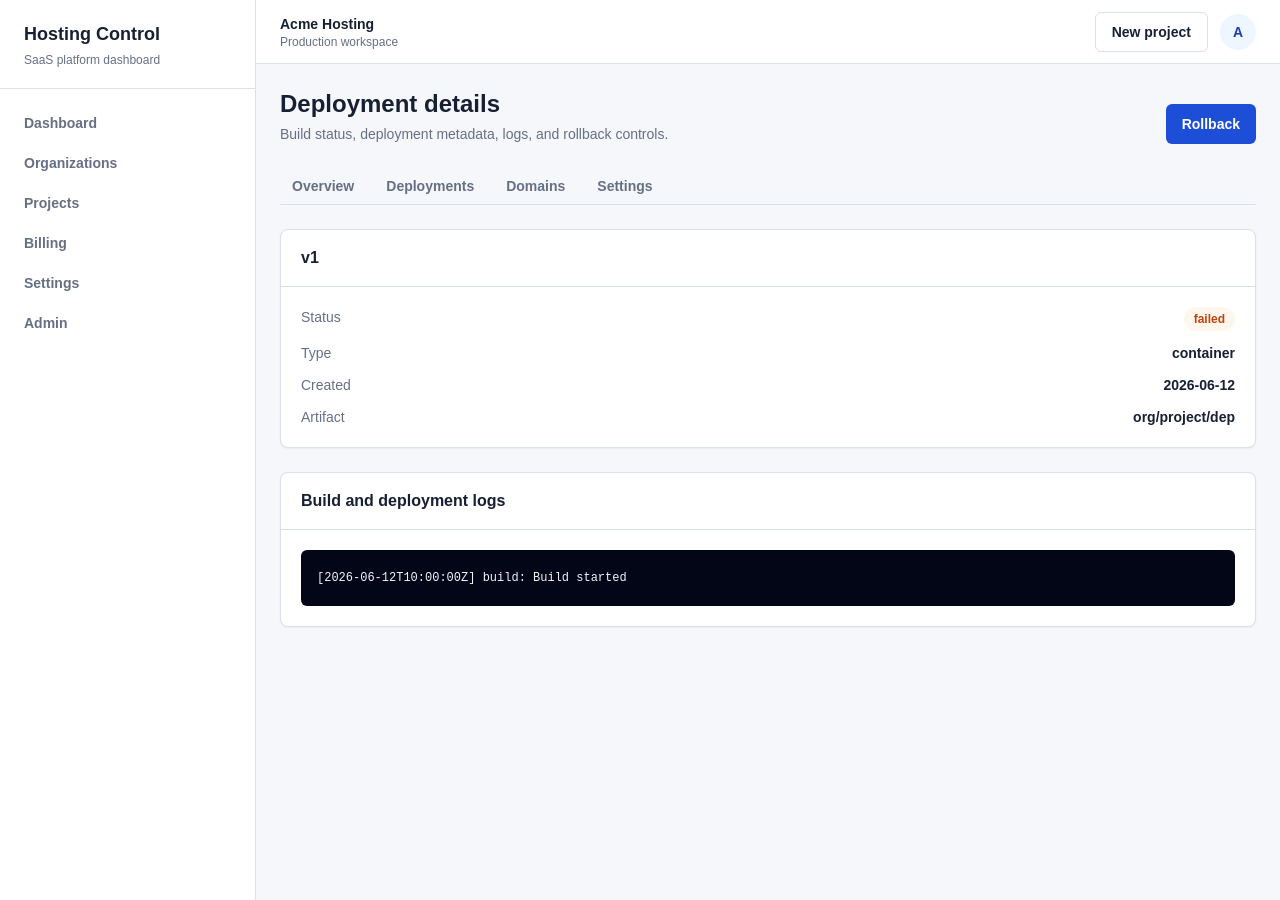
Test case: DeploymentDetailPage › allows rollback for deploy-capable roles
The image size is (1280, 900).
Click the button "Rollback".
click(1211, 124)  # box 1166,104 -> 1256,144
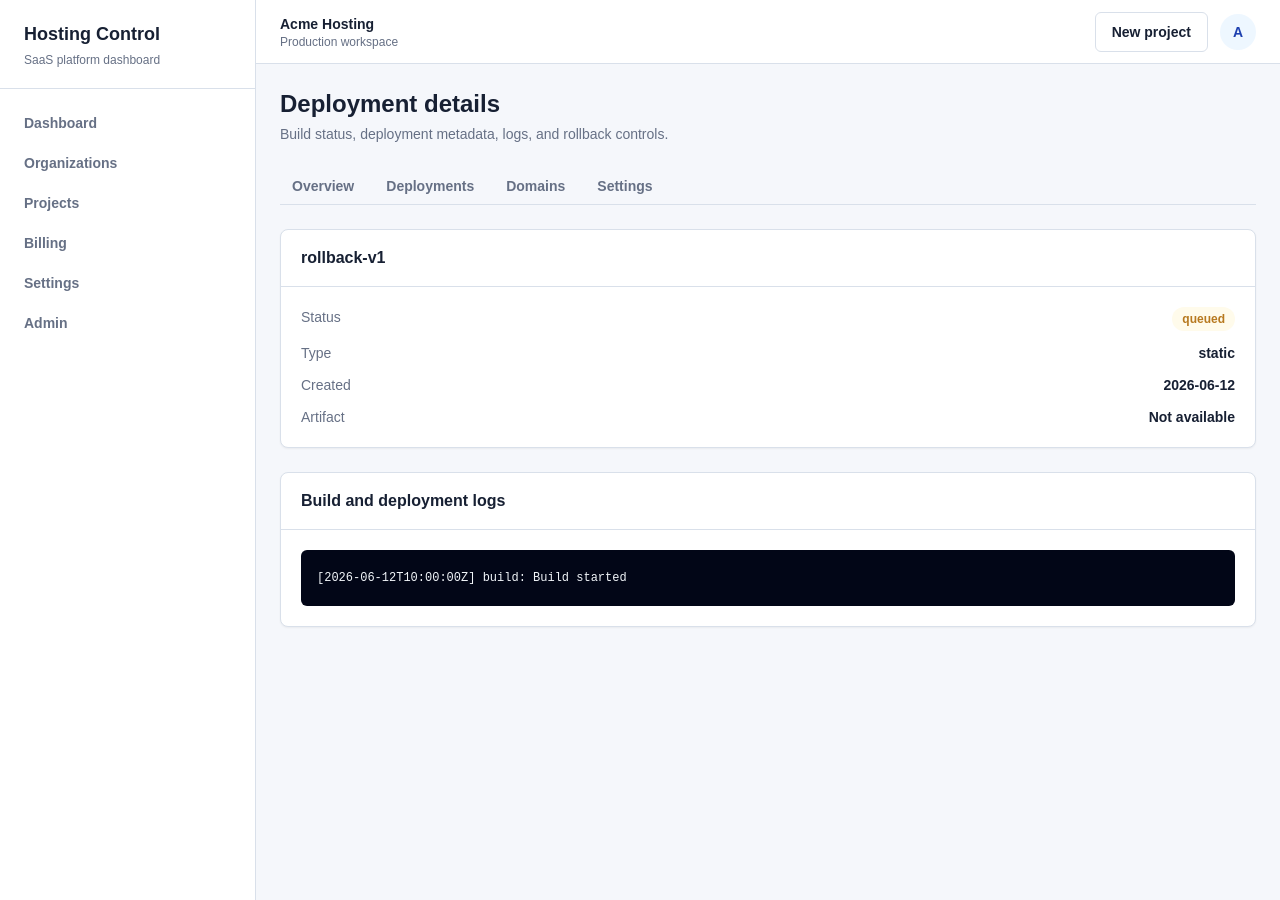
Check: the heading "rollback-v1" is shown, box 301,249 -> 386,266
